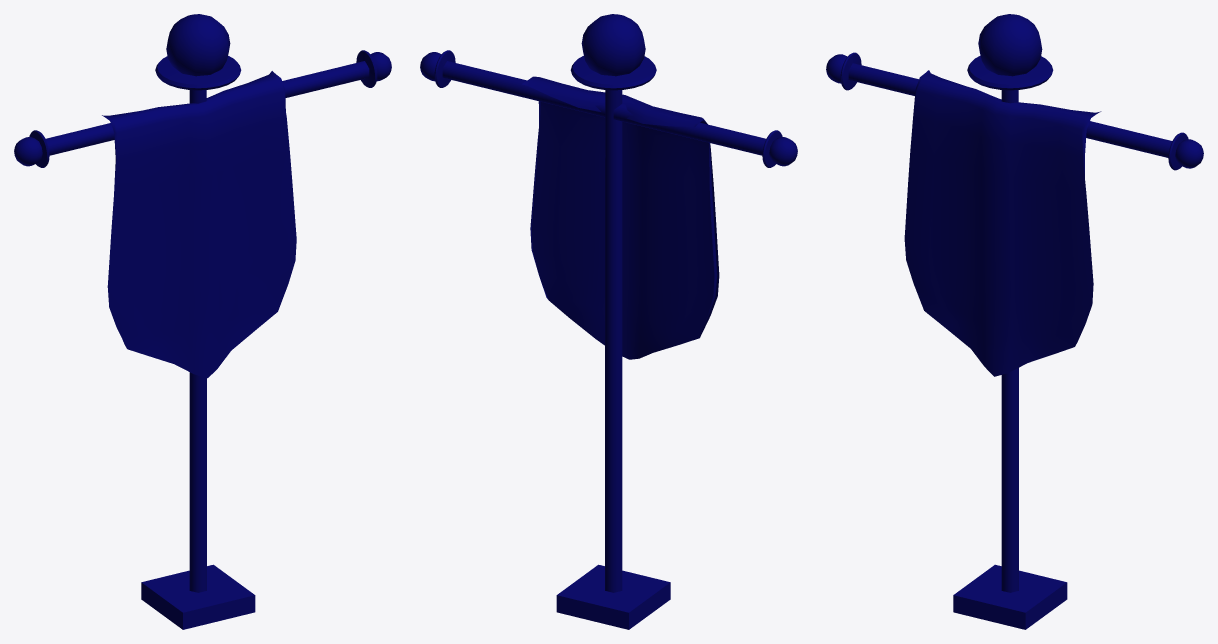
The model's file is SM_BandeiraAzul.fbx.
The picture shows the model from 3 angles, left to right: view 1: azimuth 30°, elevation 25°; view 2: azimuth 150°, elevation 25°; view 3: azimuth 330°, elevation 25°; orthographic projection.
Visible parts, largest first — view 1: SM_BandeiraAzul; view 2: SM_BandeiraAzul; view 3: SM_BandeiraAzul.
Boxes of the visible parts, x1,y1,x2,y2 form: SM_BandeiraAzul: (14, 14, 391, 629); SM_BandeiraAzul: (420, 14, 797, 629); SM_BandeiraAzul: (826, 14, 1203, 629).
Bounding box in the file's own units: 9.84 × 14.82 × 1.96.
